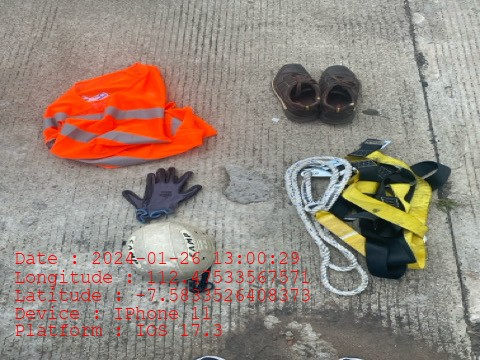ROMPI: (42, 64, 210, 166)
SARUNG_TANGAN: (142, 166, 202, 217)
SEPATU: (273, 63, 360, 124)
